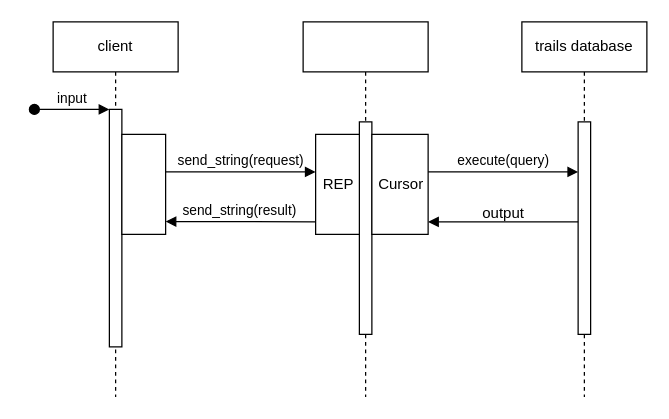
Some shapes in this 669 by 419 pixel diagram are drawn without their labels. The box of each missing label's shape, as (x1, y1, x2, y2) in pixels:
REQ: (121, 133, 166, 234)
server: (302, 21, 428, 397)
